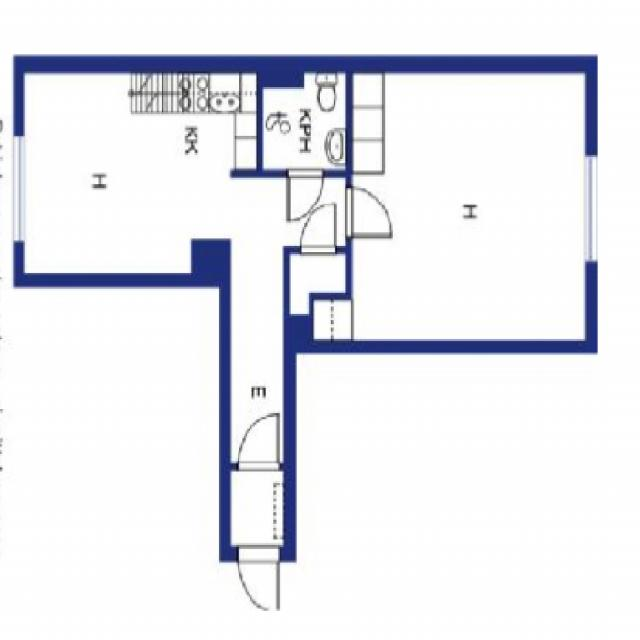door: (238, 548, 278, 610), (238, 413, 279, 470), (346, 187, 390, 236), (286, 170, 322, 221), (300, 203, 335, 252)
